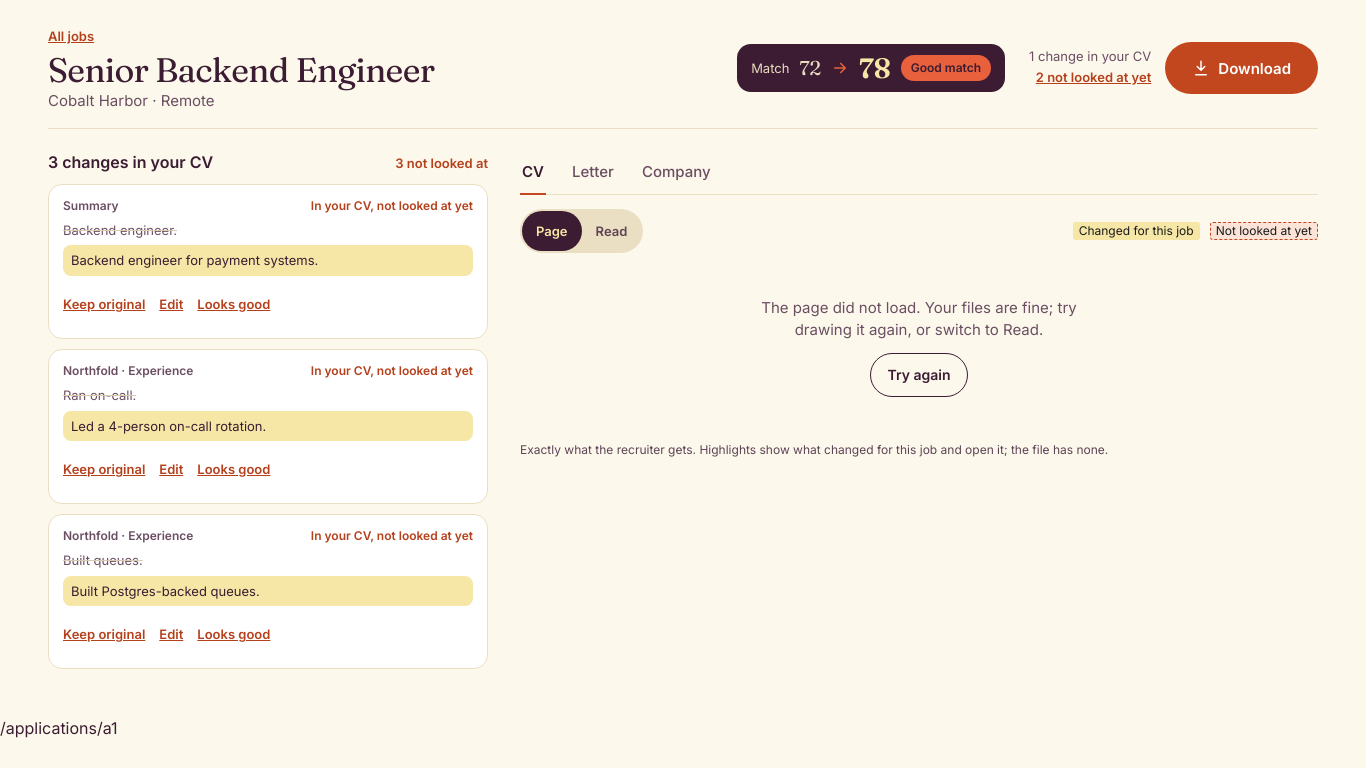
Test: the CV tab › opens the first change not looked at from beside Download
This screenshot has width=1366, height=768.
Click the button "2 not looked at yet".
click(1094, 77)  # box [1036,65,1151,89]
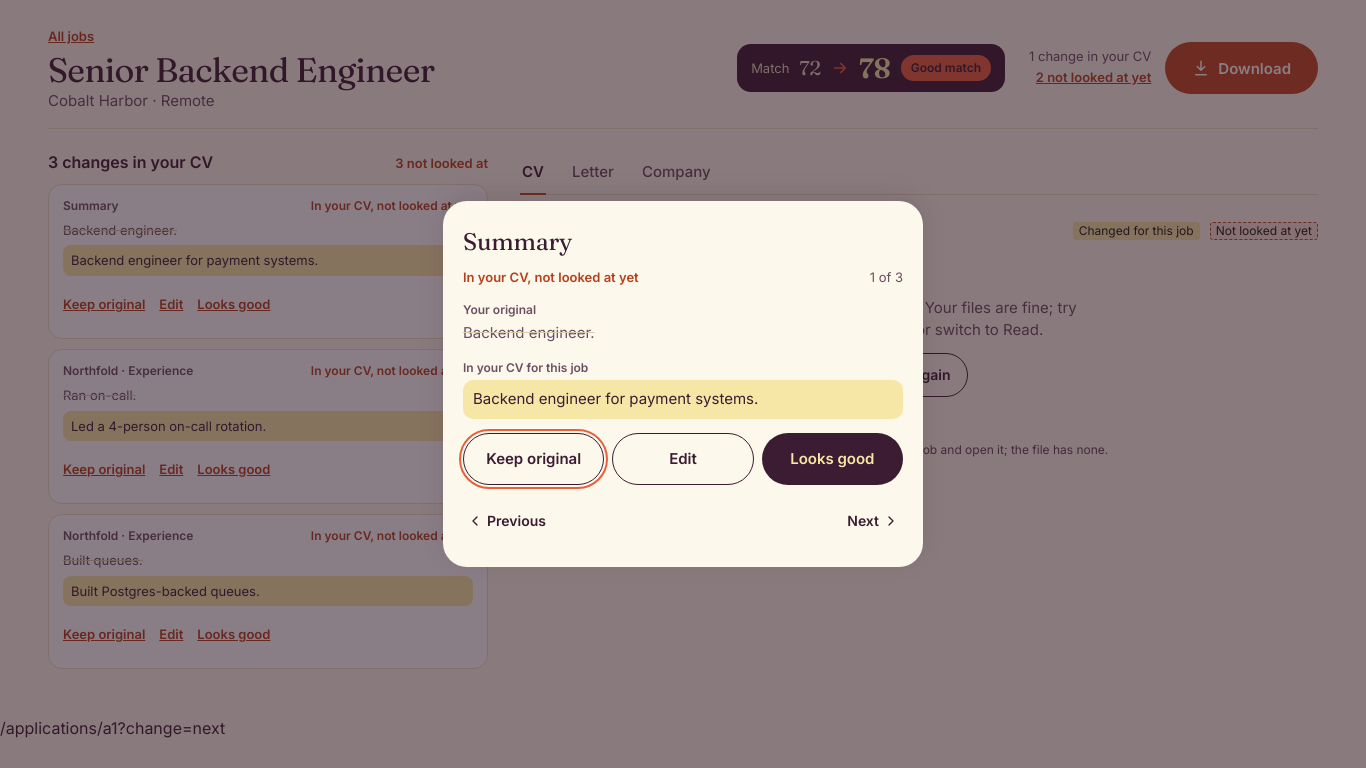
Expected: the dialog "Summary" is shown, [443,201,923,567]
